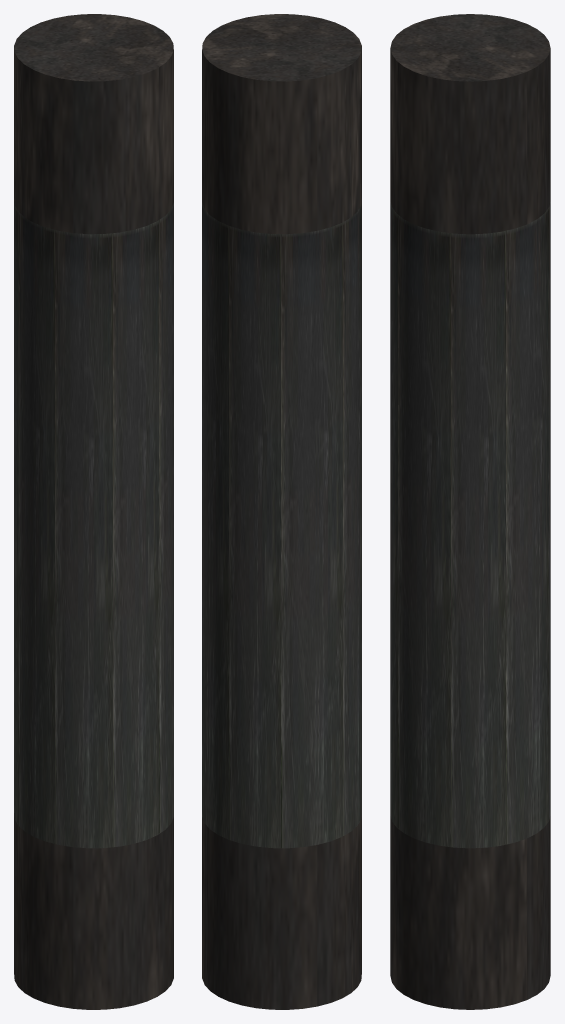
File: BrokedFuse.fbx
3 renders of one model, left to right at view 1: azimuth 30°, elevation 25°; view 2: azimuth 150°, elevation 25°; view 3: azimuth 270°, elevation 25°, orthographic.
Parts seen in each view (by area): view 1: FuseBroken; view 2: FuseBroken; view 3: FuseBroken.
Part boxes in pixels (x1,y1,x2,y2): FuseBroken: [14, 14, 173, 1009]; FuseBroken: [202, 14, 361, 1009]; FuseBroken: [390, 14, 550, 1009].
Bounding box in the file's own units: 3.18 × 20.36 × 3.18.
